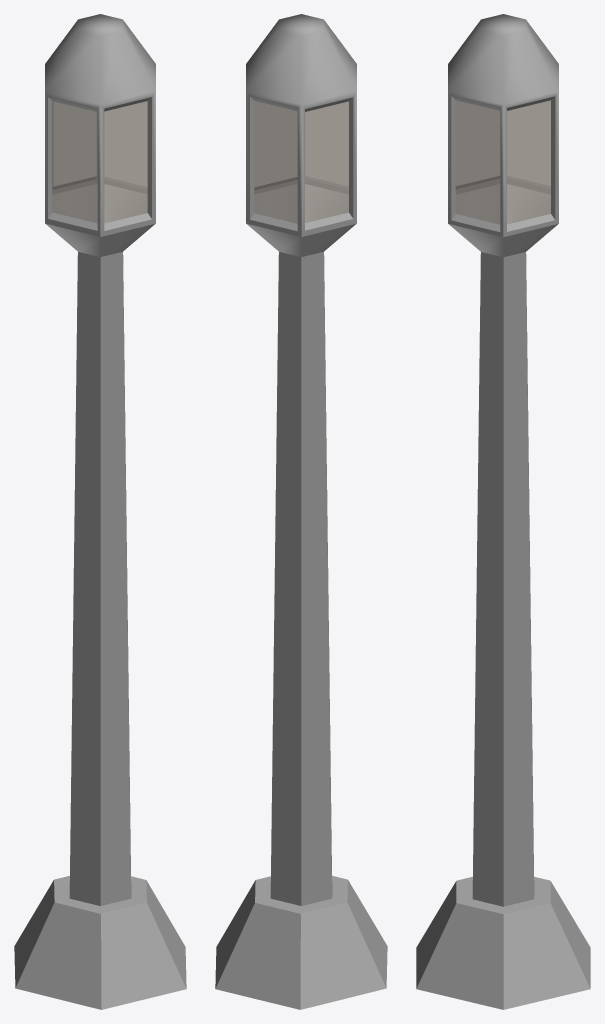
Rendered from StreetLamp.fbx.
3 views of the same model, side by side, from view 1: azimuth 30°, elevation 25°; view 2: azimuth 150°, elevation 25°; view 3: azimuth 270°, elevation 25° (orthographic).
Parts seen in each view (by area): view 1: lamp17; view 2: lamp17; view 3: lamp17.
Part boxes in pixels (<box>): lamp17: <box>14,14,186,1009</box>; lamp17: <box>215,14,387,1009</box>; lamp17: <box>416,14,590,1009</box>.
Size of the model in its own units: 2.32 by 12.27 by 2.06.
